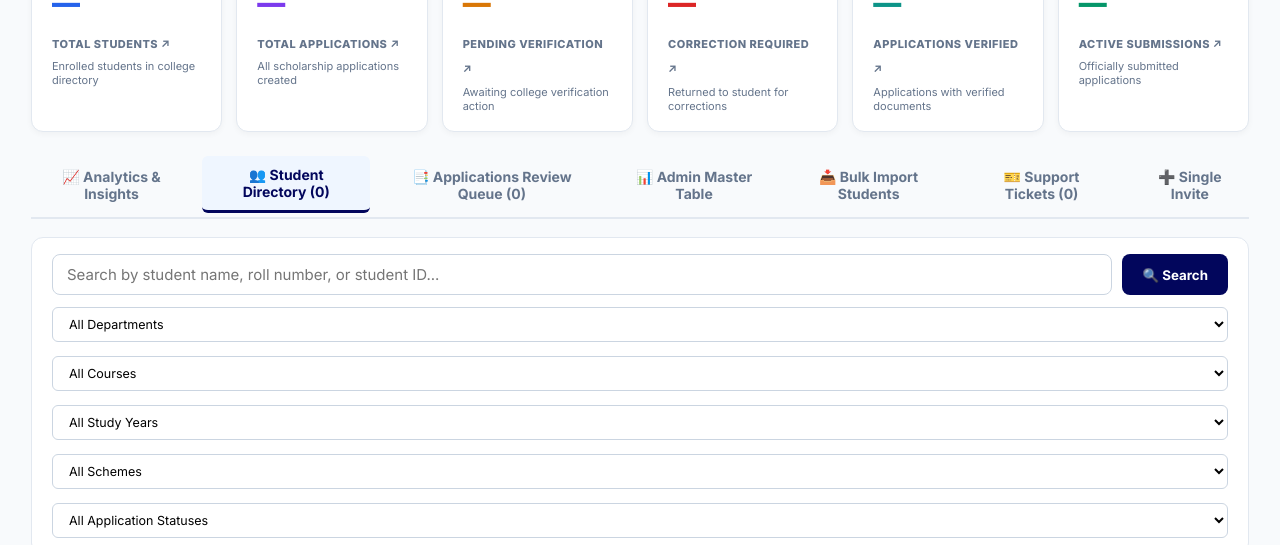
Scenario: CollegeDashboard UI & Chart Usability Enhancements › 5. Displays overdue cases with configured deadline header instead of hardcoded 7 days
Click the button "📈 Analytics & Insights".
click(112, 185)  # box [31,156,192,213]
(page scrolled)
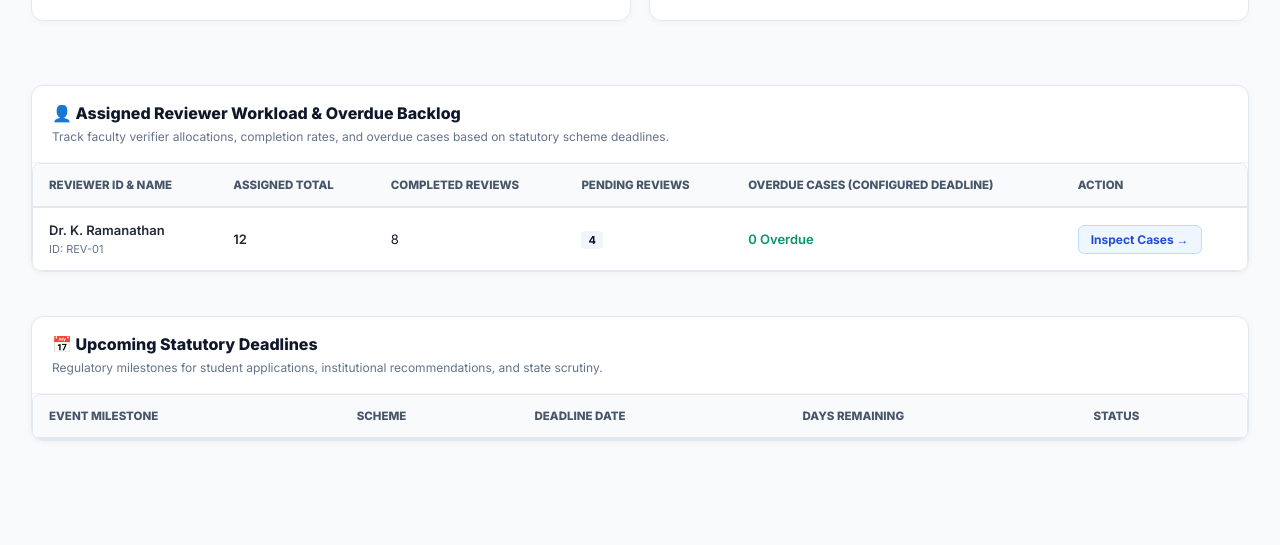
Result: the column heading "Overdue Cases (Configured Deadline)" is shown at [732,164,1062,207]
